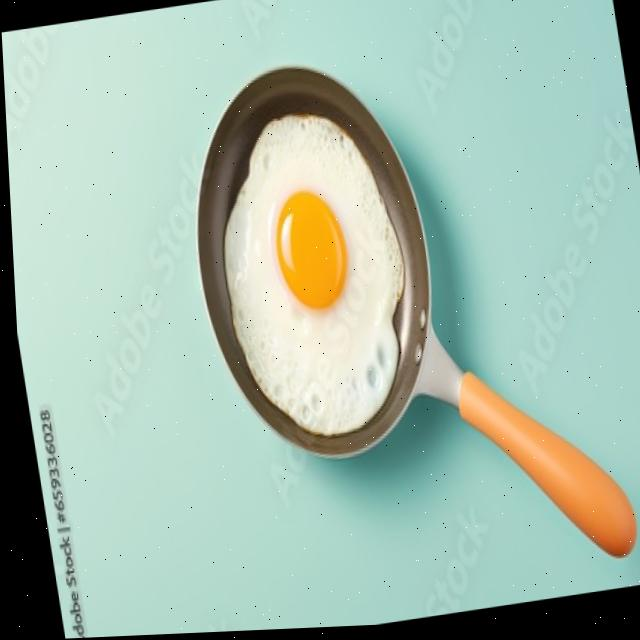Egg: (221, 117, 401, 434)
